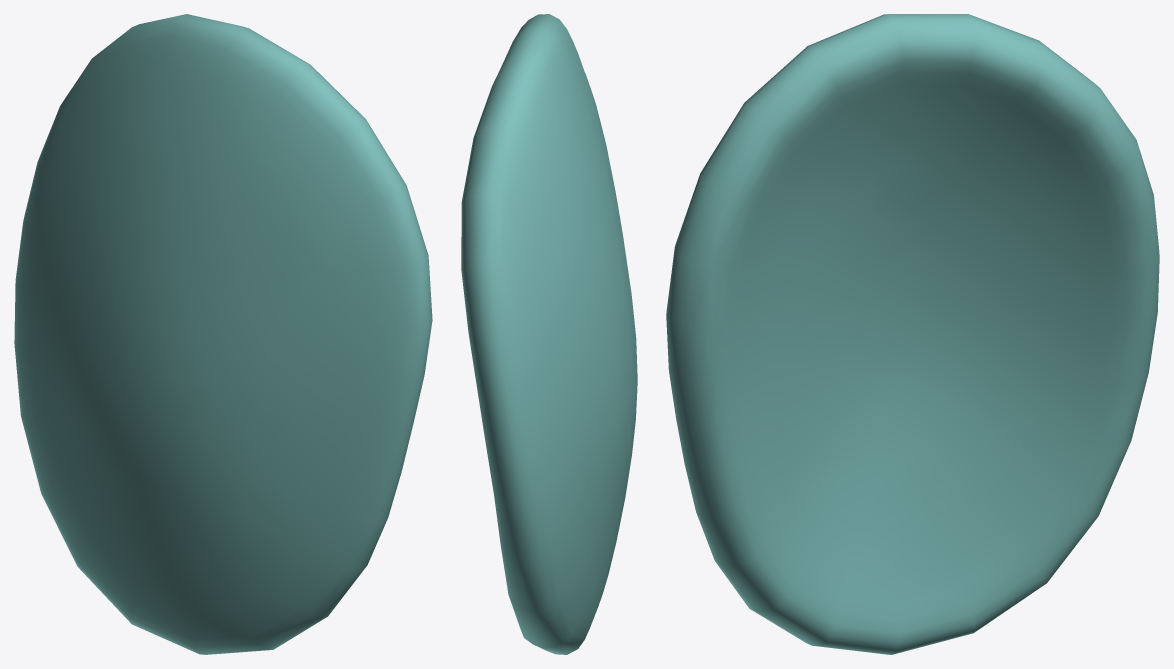
The model's file is BL5_Enamel_Diamond.001.glb.
3 views of the same model, side by side, from view 1: azimuth 30°, elevation 25°; view 2: azimuth 150°, elevation 25°; view 3: azimuth 270°, elevation 25° (orthographic). The views are drawn at different scales.
Parts seen in each view (by area): view 1: BL5_Enamel_Diamond.001; view 2: BL5_Enamel_Diamond.001; view 3: BL5_Enamel_Diamond.001.
Part boxes in pixels (<box>): BL5_Enamel_Diamond.001: <box>14,14,432,654</box>; BL5_Enamel_Diamond.001: <box>461,14,637,654</box>; BL5_Enamel_Diamond.001: <box>666,14,1159,654</box>.
Bounding box in the file's own units: 0.3004 × 0.8147 × 0.5565.
